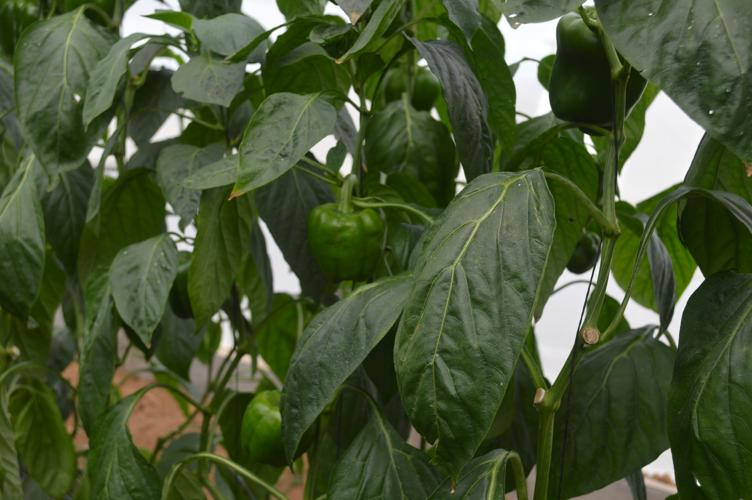BellPepper: (538, 12, 644, 129), (234, 389, 315, 467), (310, 205, 387, 282), (383, 64, 436, 114)
